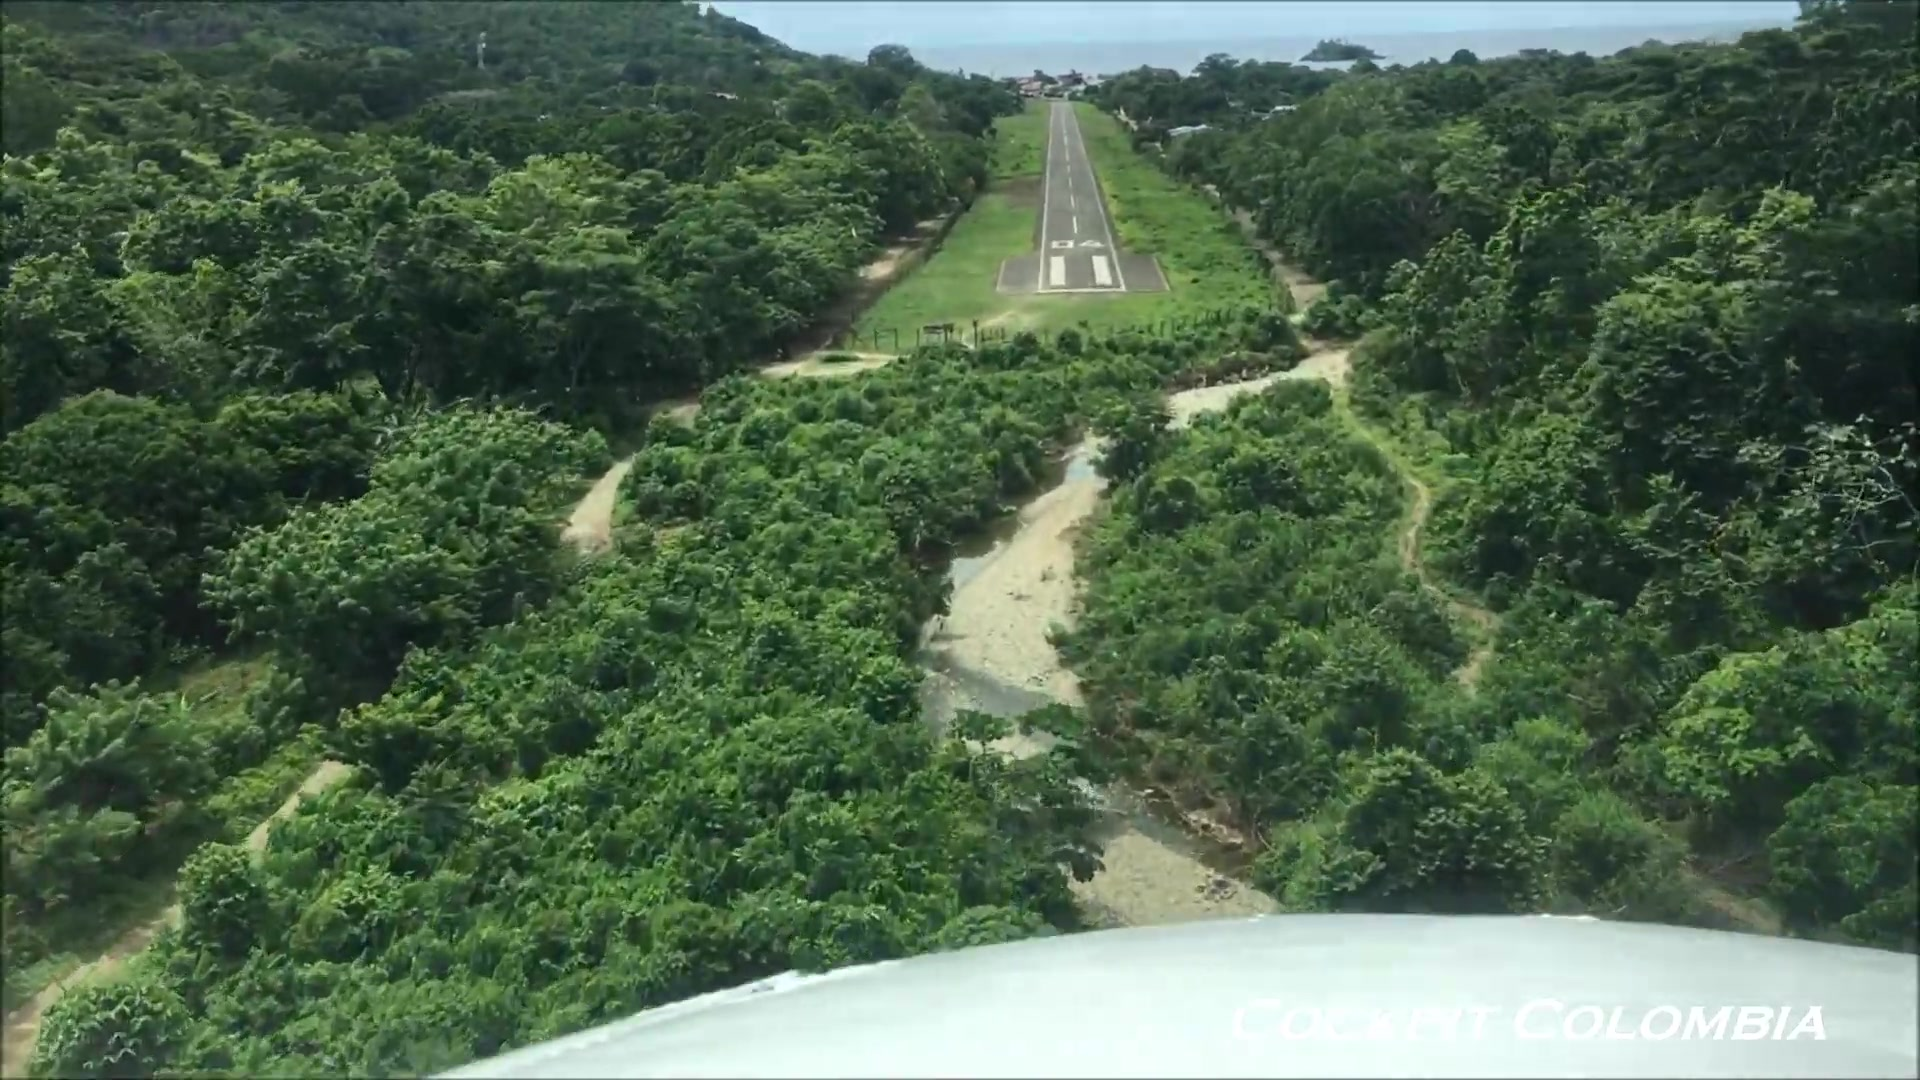entrance: (1047, 255, 1113, 286)
runway: (1036, 98, 1129, 295)
